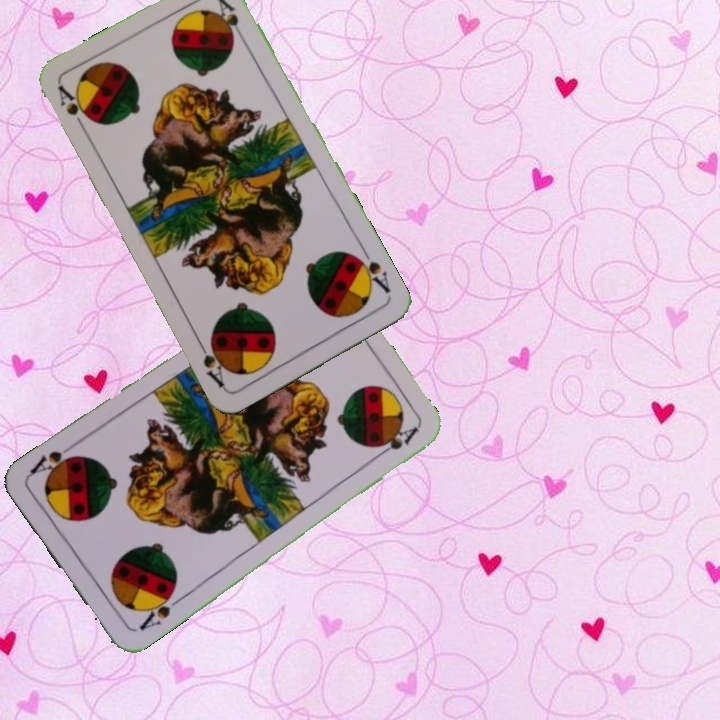SA: (135, 586, 184, 633), (53, 81, 94, 136), (349, 245, 393, 296)
